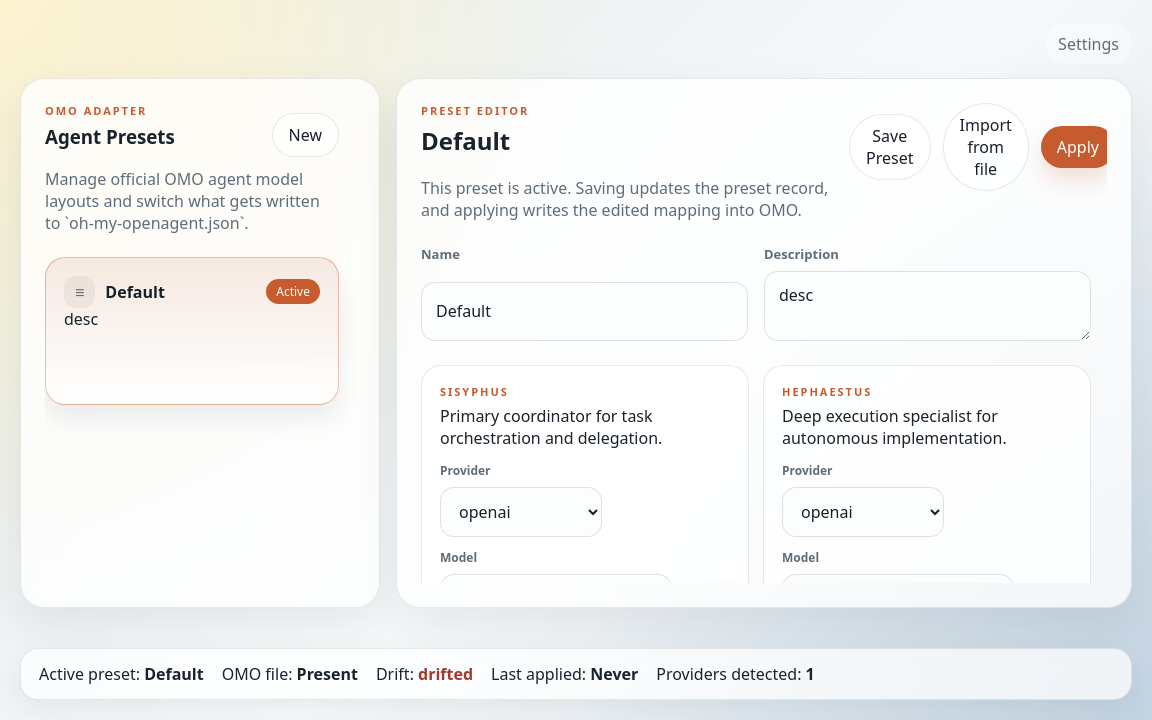
Test: App › shows drift only after saving edits to the active preset
The width and height of the screenshot is (1152, 720).
Expected: the text "current OMO file differs from the active preset" is not shown
Replace the text in the field showing "Default" with "Default Revised": point(584, 311) [421, 282, 748, 341]
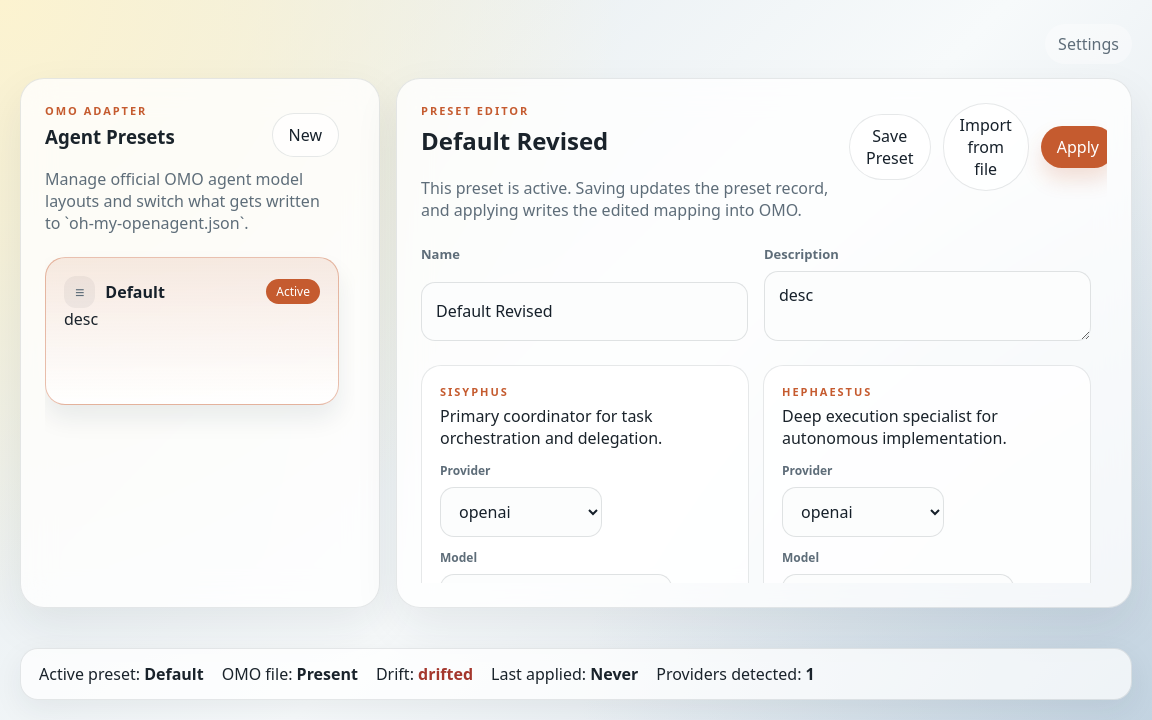
Click the button "Save Preset": point(890, 147) [849, 114, 930, 180]
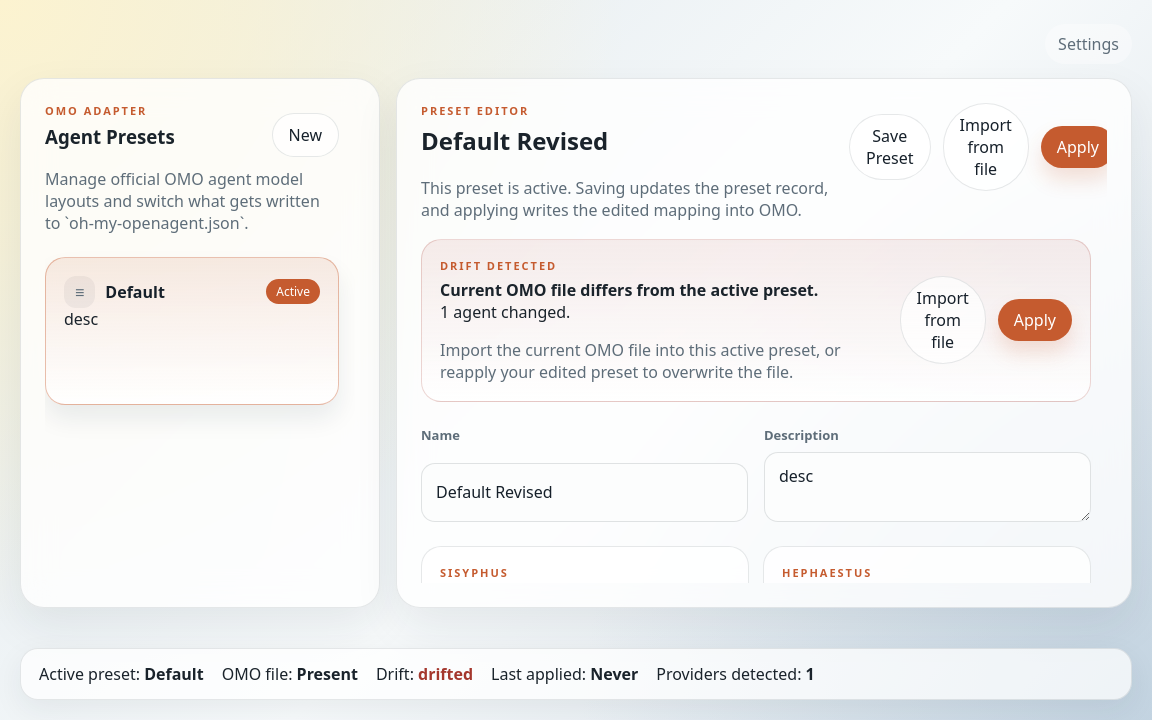
Expected: the text "Current OMO file differs from the active preset." is shown, [440, 279, 818, 301]
Expected: the text "1 agent changed." is shown, [440, 301, 570, 323]
